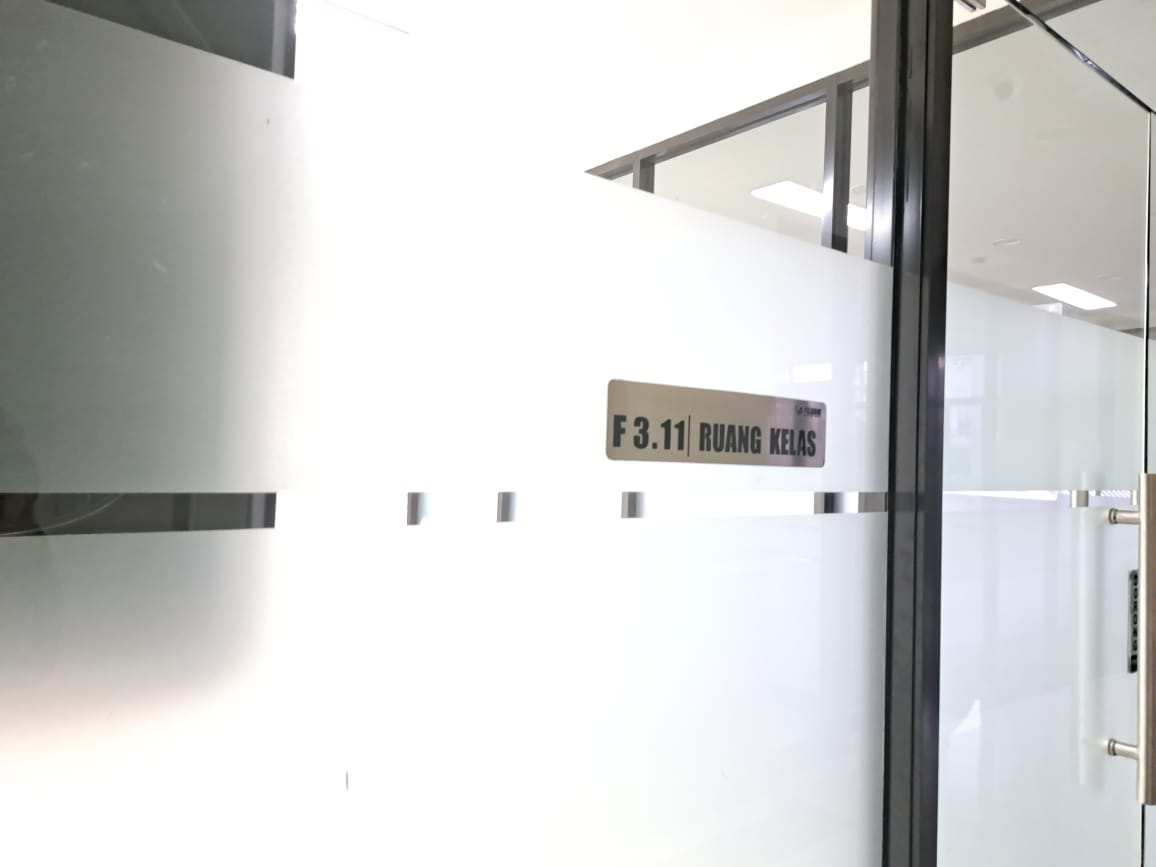ruangan: (599, 374, 833, 477)
